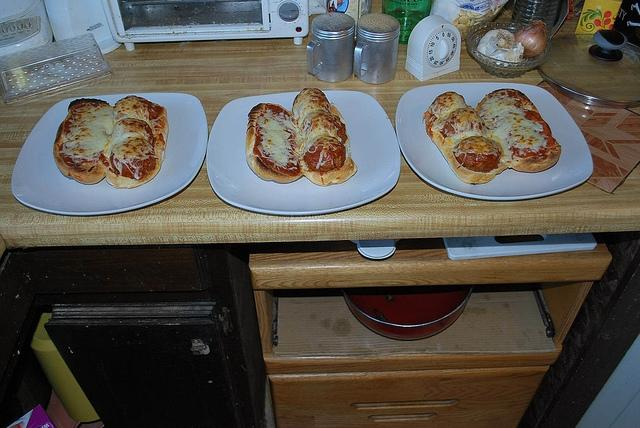garlic: (477, 29, 524, 62)
onion: (514, 20, 548, 58)
